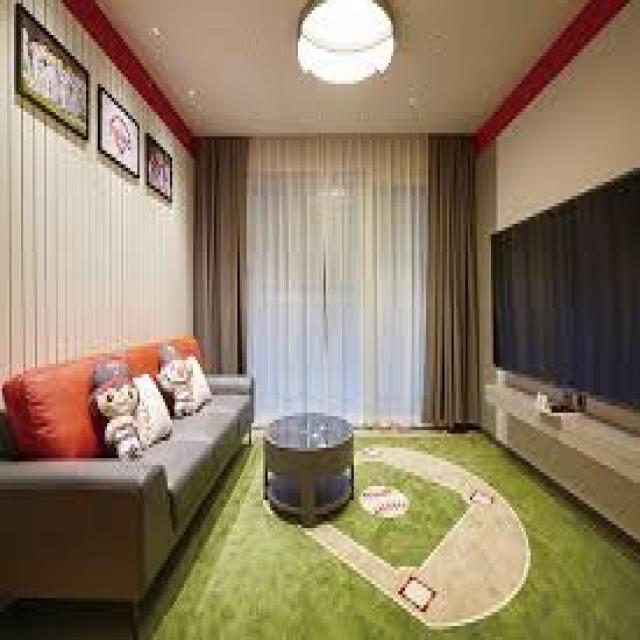Sofa: (2, 332, 257, 616)
Table: (264, 410, 357, 526)
tv: (489, 173, 638, 406)
window: (195, 136, 474, 351)
